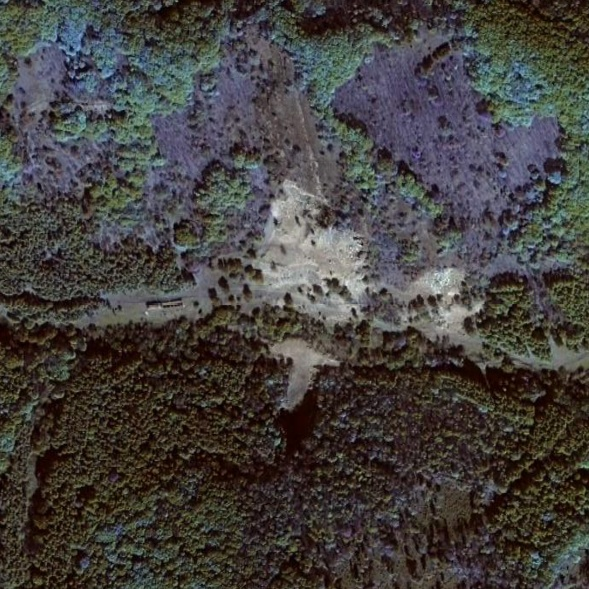slope: (245, 178, 376, 329), (391, 260, 486, 361), (267, 331, 342, 412)
